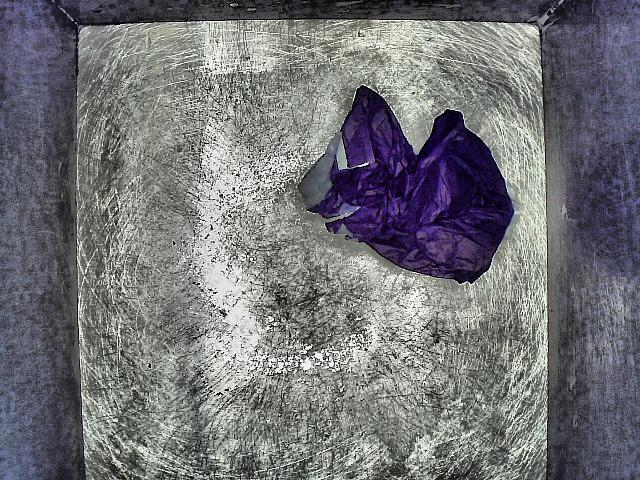Paper: (296, 74, 519, 301)
